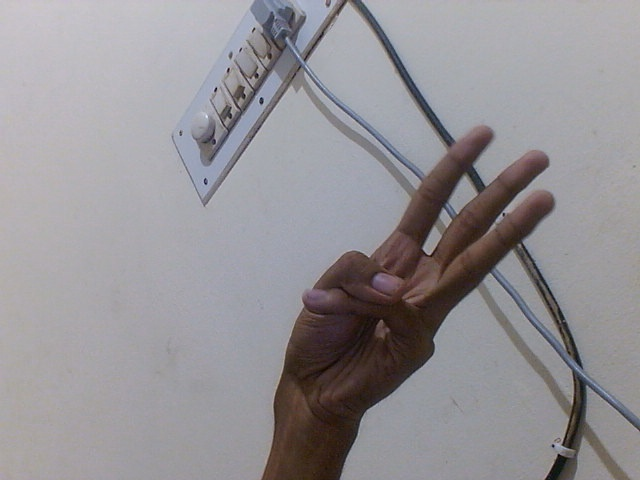hand: (280, 115, 565, 430)
